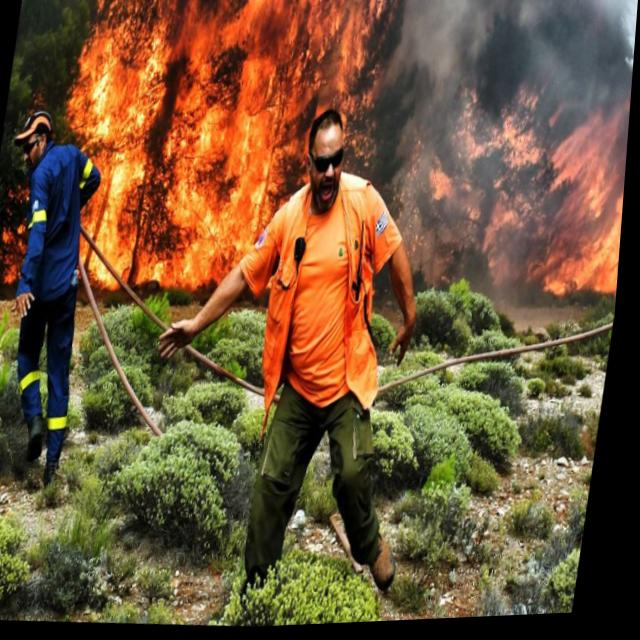Fire: (0, 0, 640, 332)
